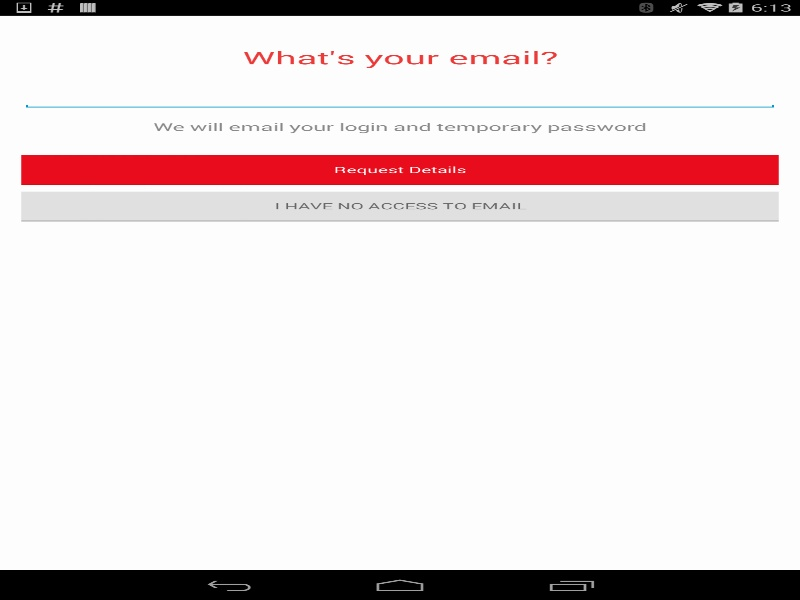Button: (21, 155, 778, 185), (21, 191, 778, 221)
Input: (21, 79, 778, 109)
